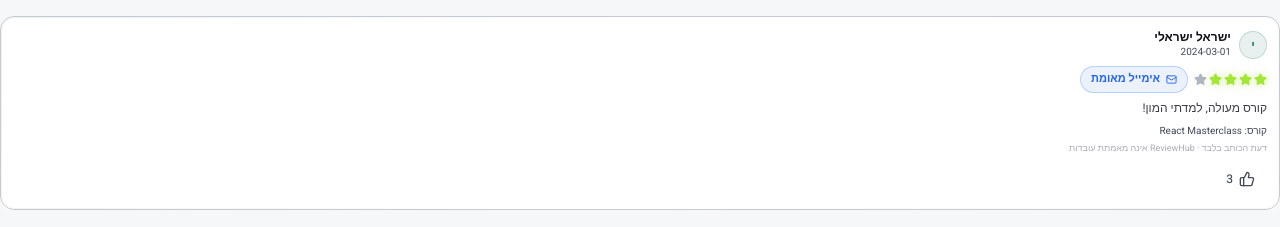
Scenario: Like / unlike interaction › optimistically increments like count when user clicks like
The width and height of the screenshot is (1280, 227).
Click the button named "מועיל". click: (1241, 179)
box: [1214,161,1267,197]
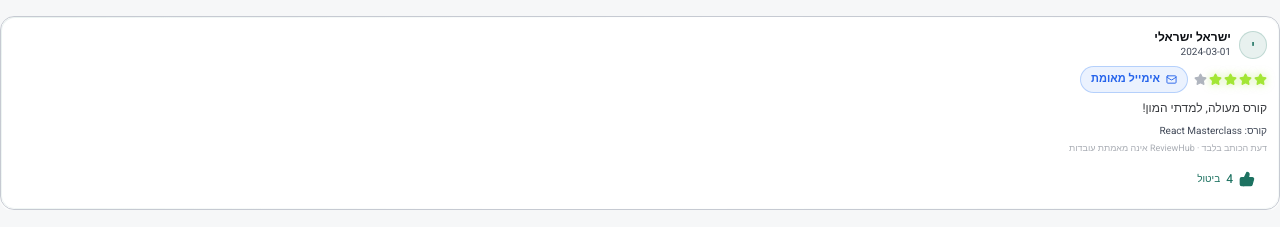
Expected: the text "4" is shown, [1226,171,1233,187]
